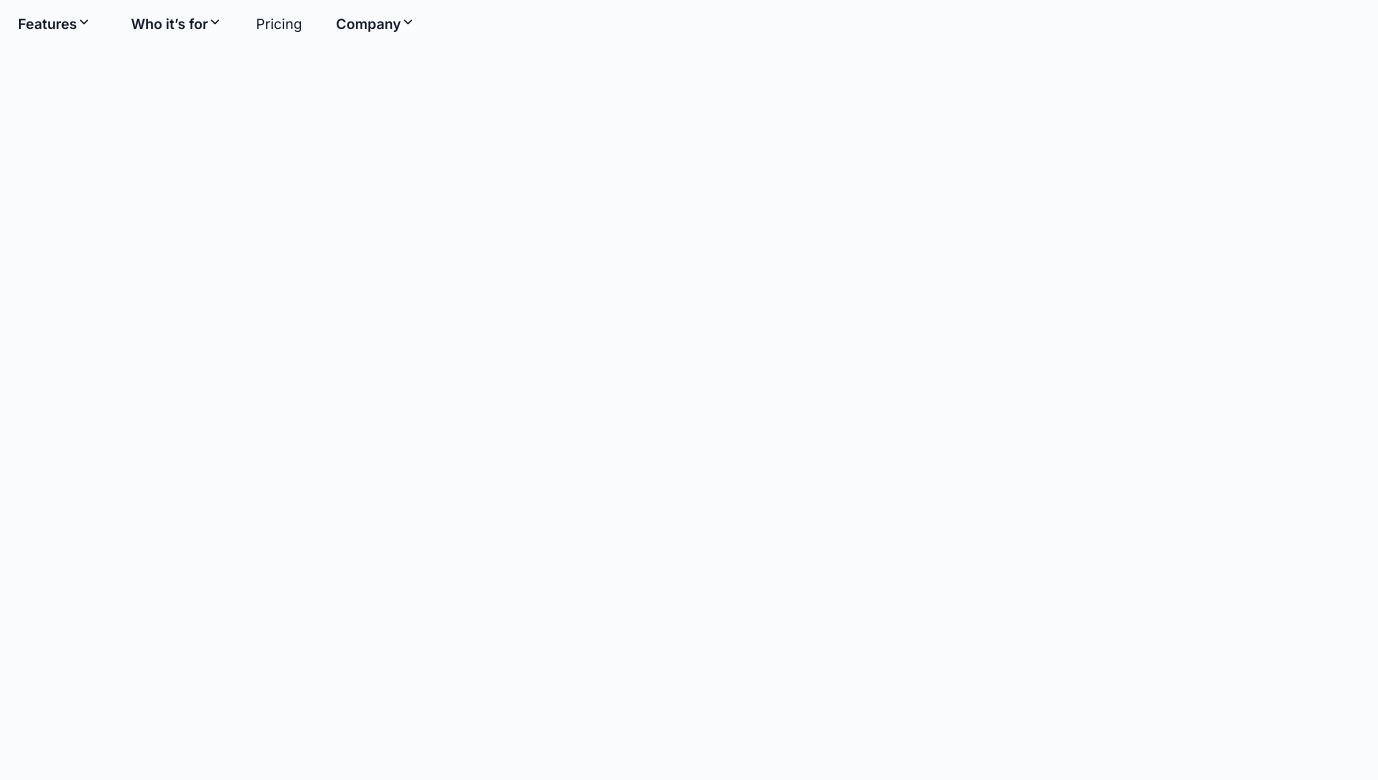
Test: public website navigation › opens one group, closes outside, and restores focus on Escape
Click the button "Features" at [54, 24], box [12,12,97,35]
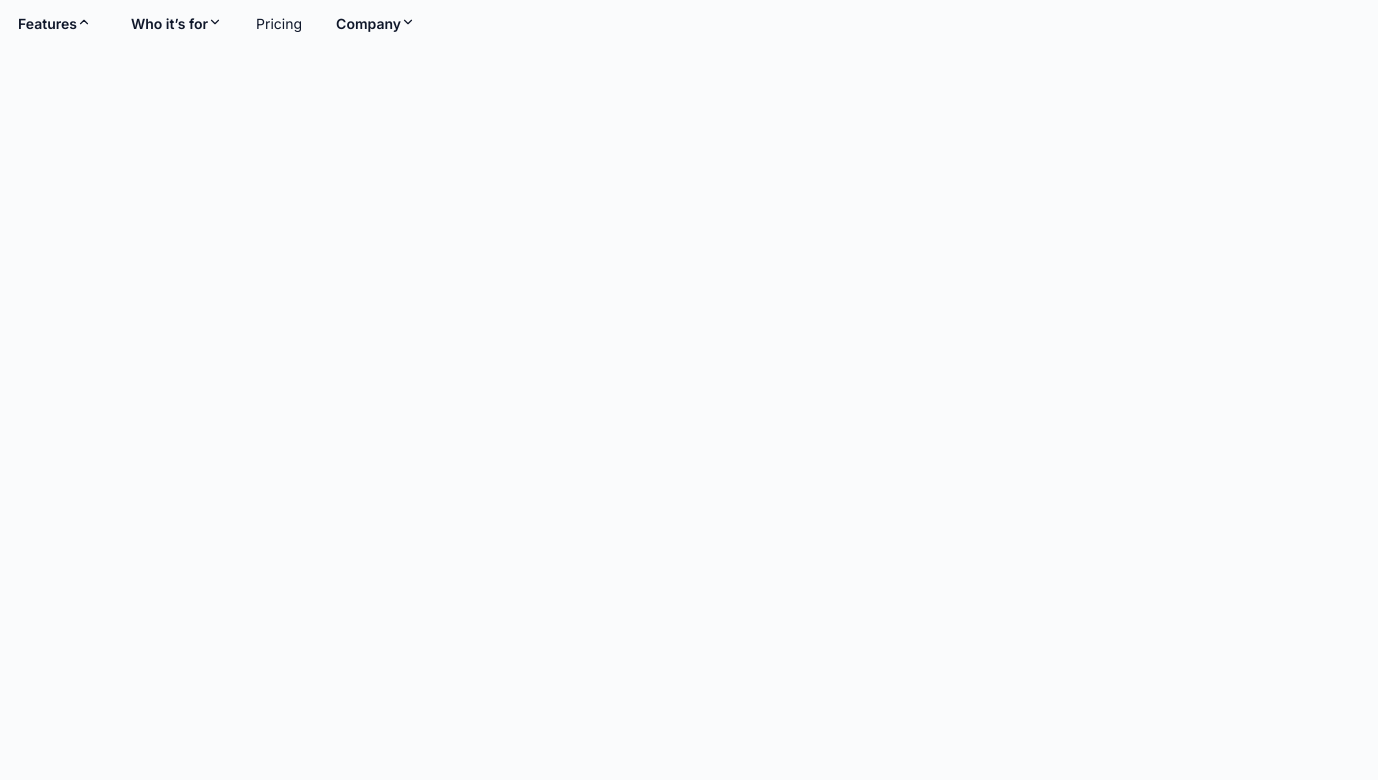
Click the button "Company" at [376, 24], box [330,12,421,35]
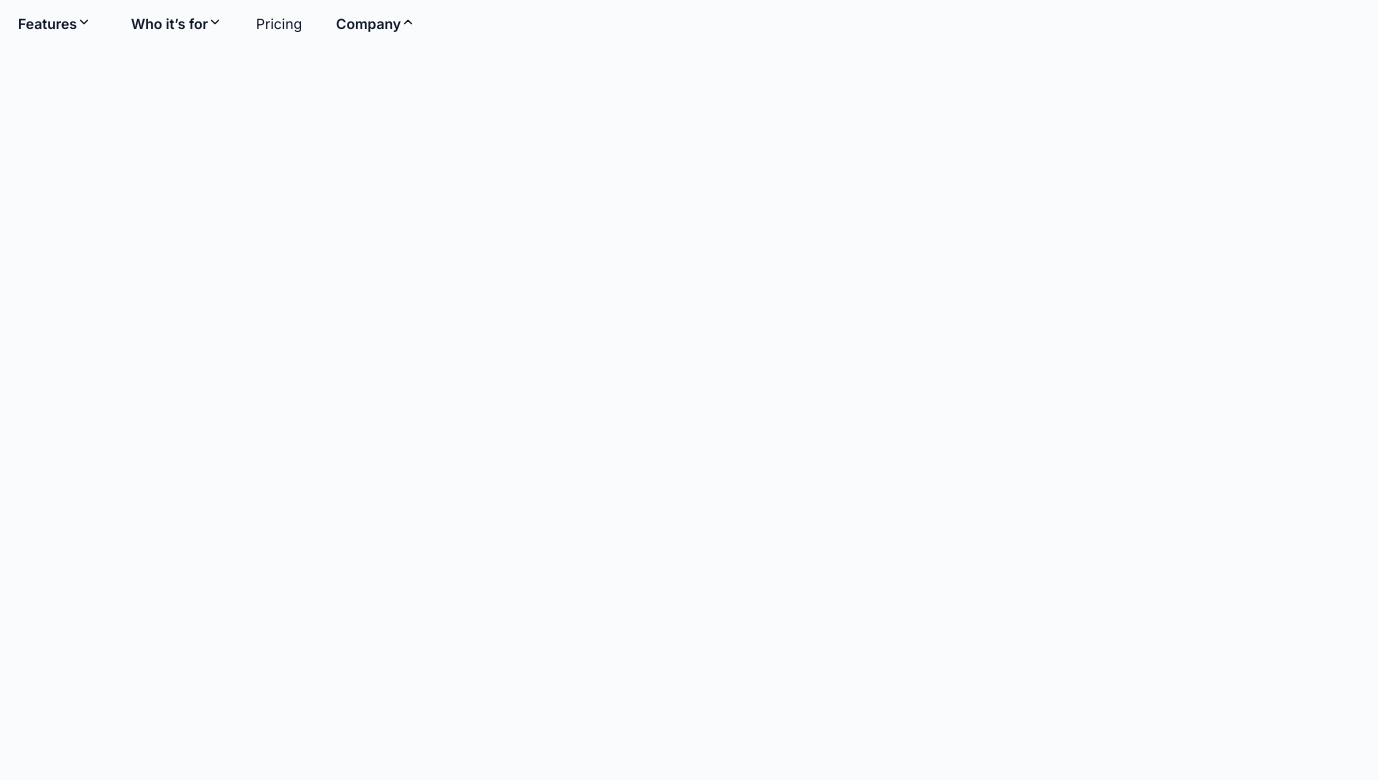
Expected: the link "Portfolio tracking" is not shown
Press Escape in the button "Company", box [330,12,421,35]
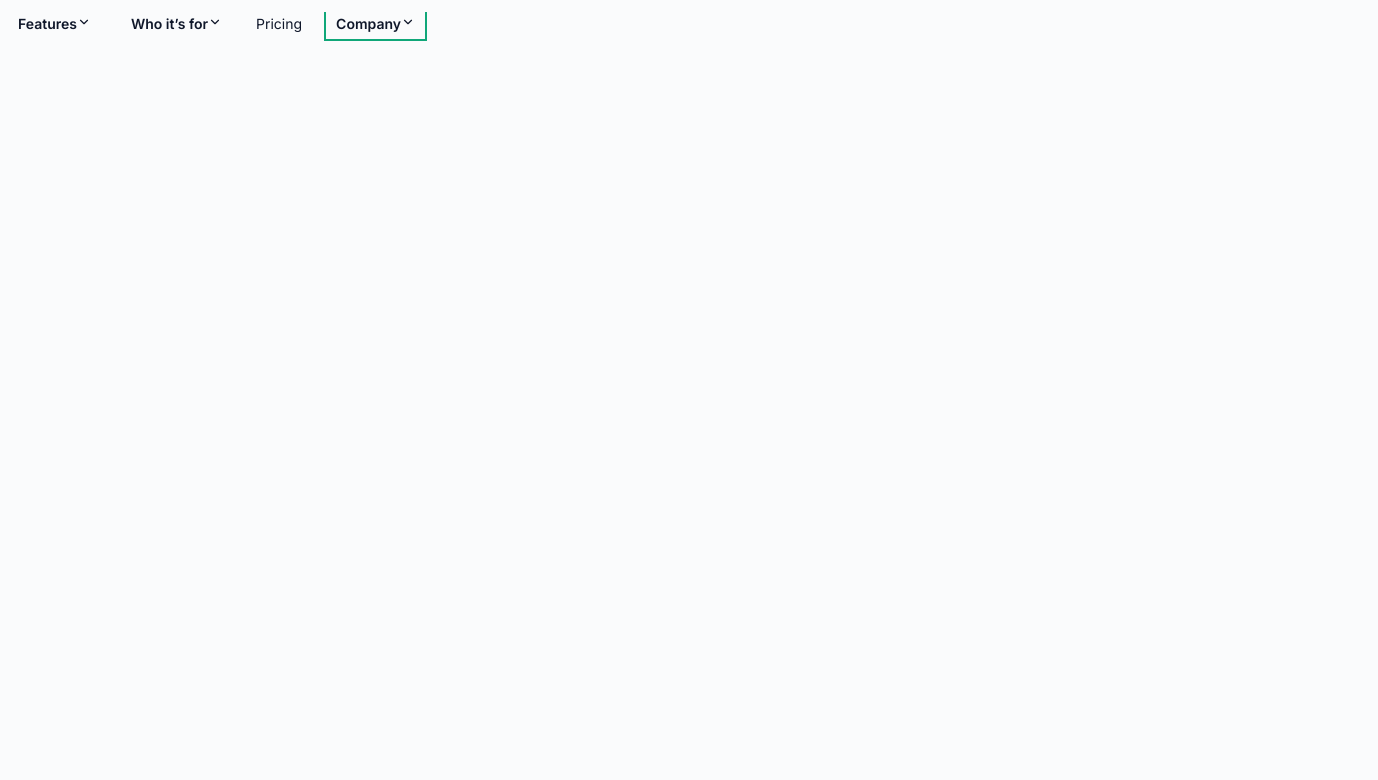
Click the button "Features" at [54, 24], box [12,12,97,35]
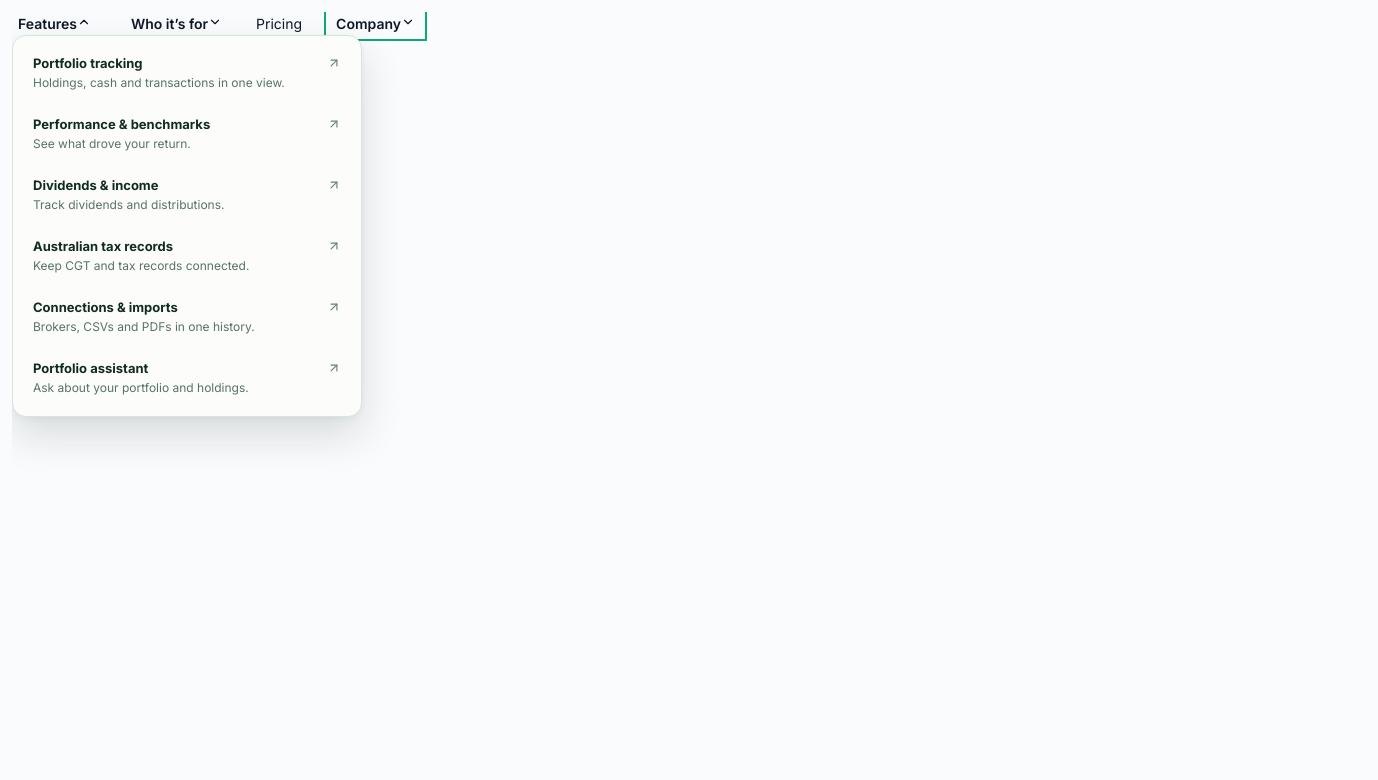
Press the mouse on the element that starts with "Features" at [688, 396], box [12,12,1363,779]
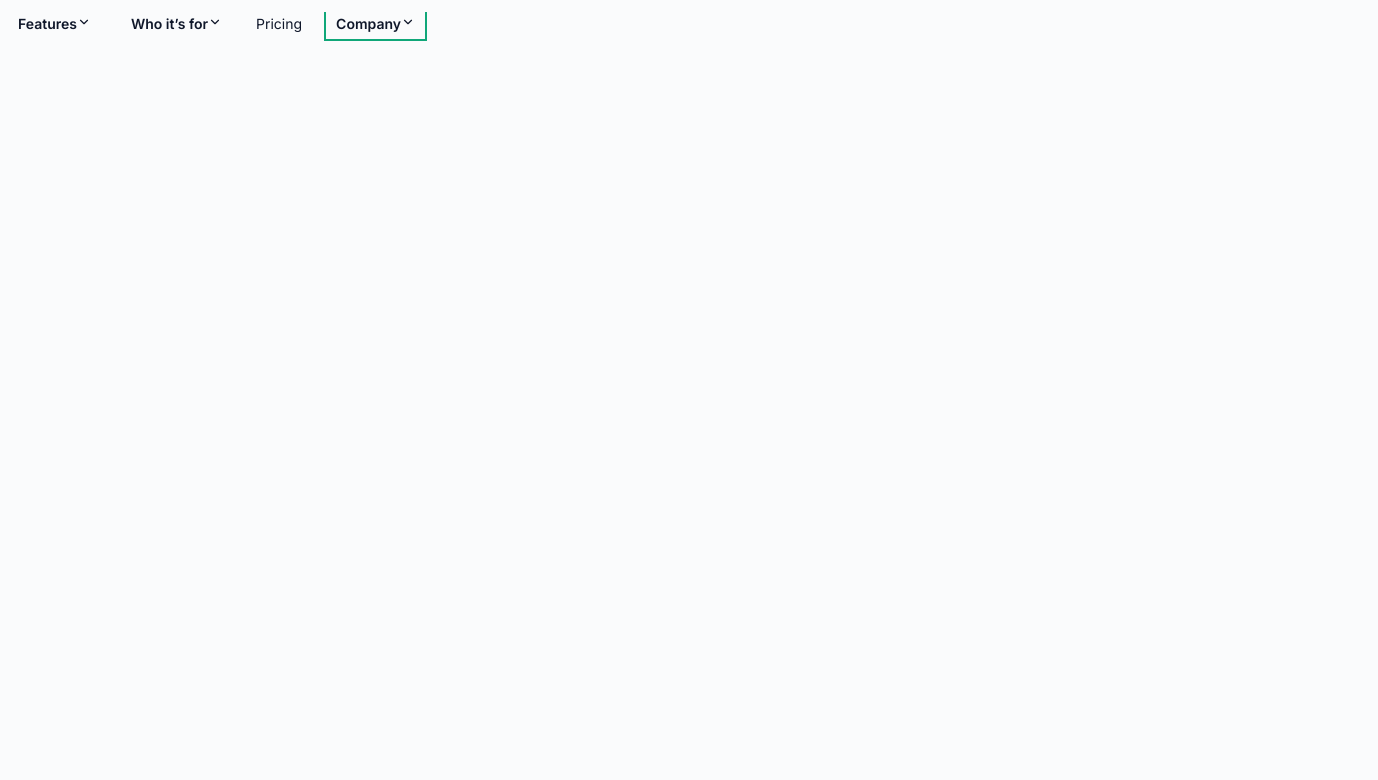
Expected: the button "Features" is collapsed, [12,12,97,35]
